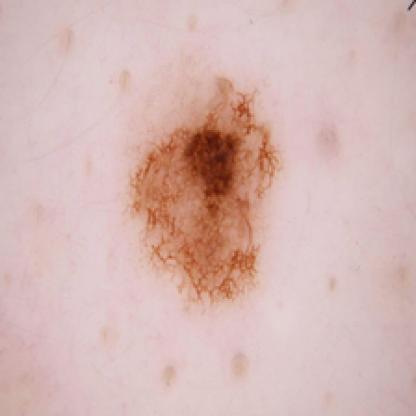Skin_Cancer-Malignant: (127, 73, 290, 317)
